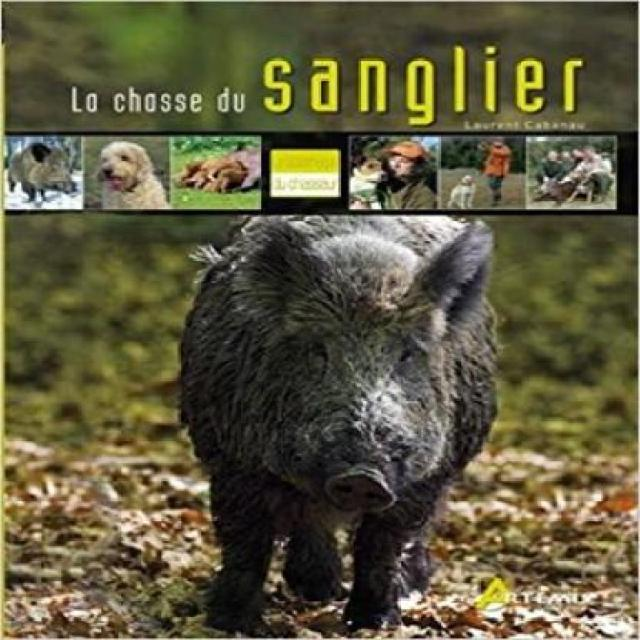wildboar: (168, 194, 509, 640)
